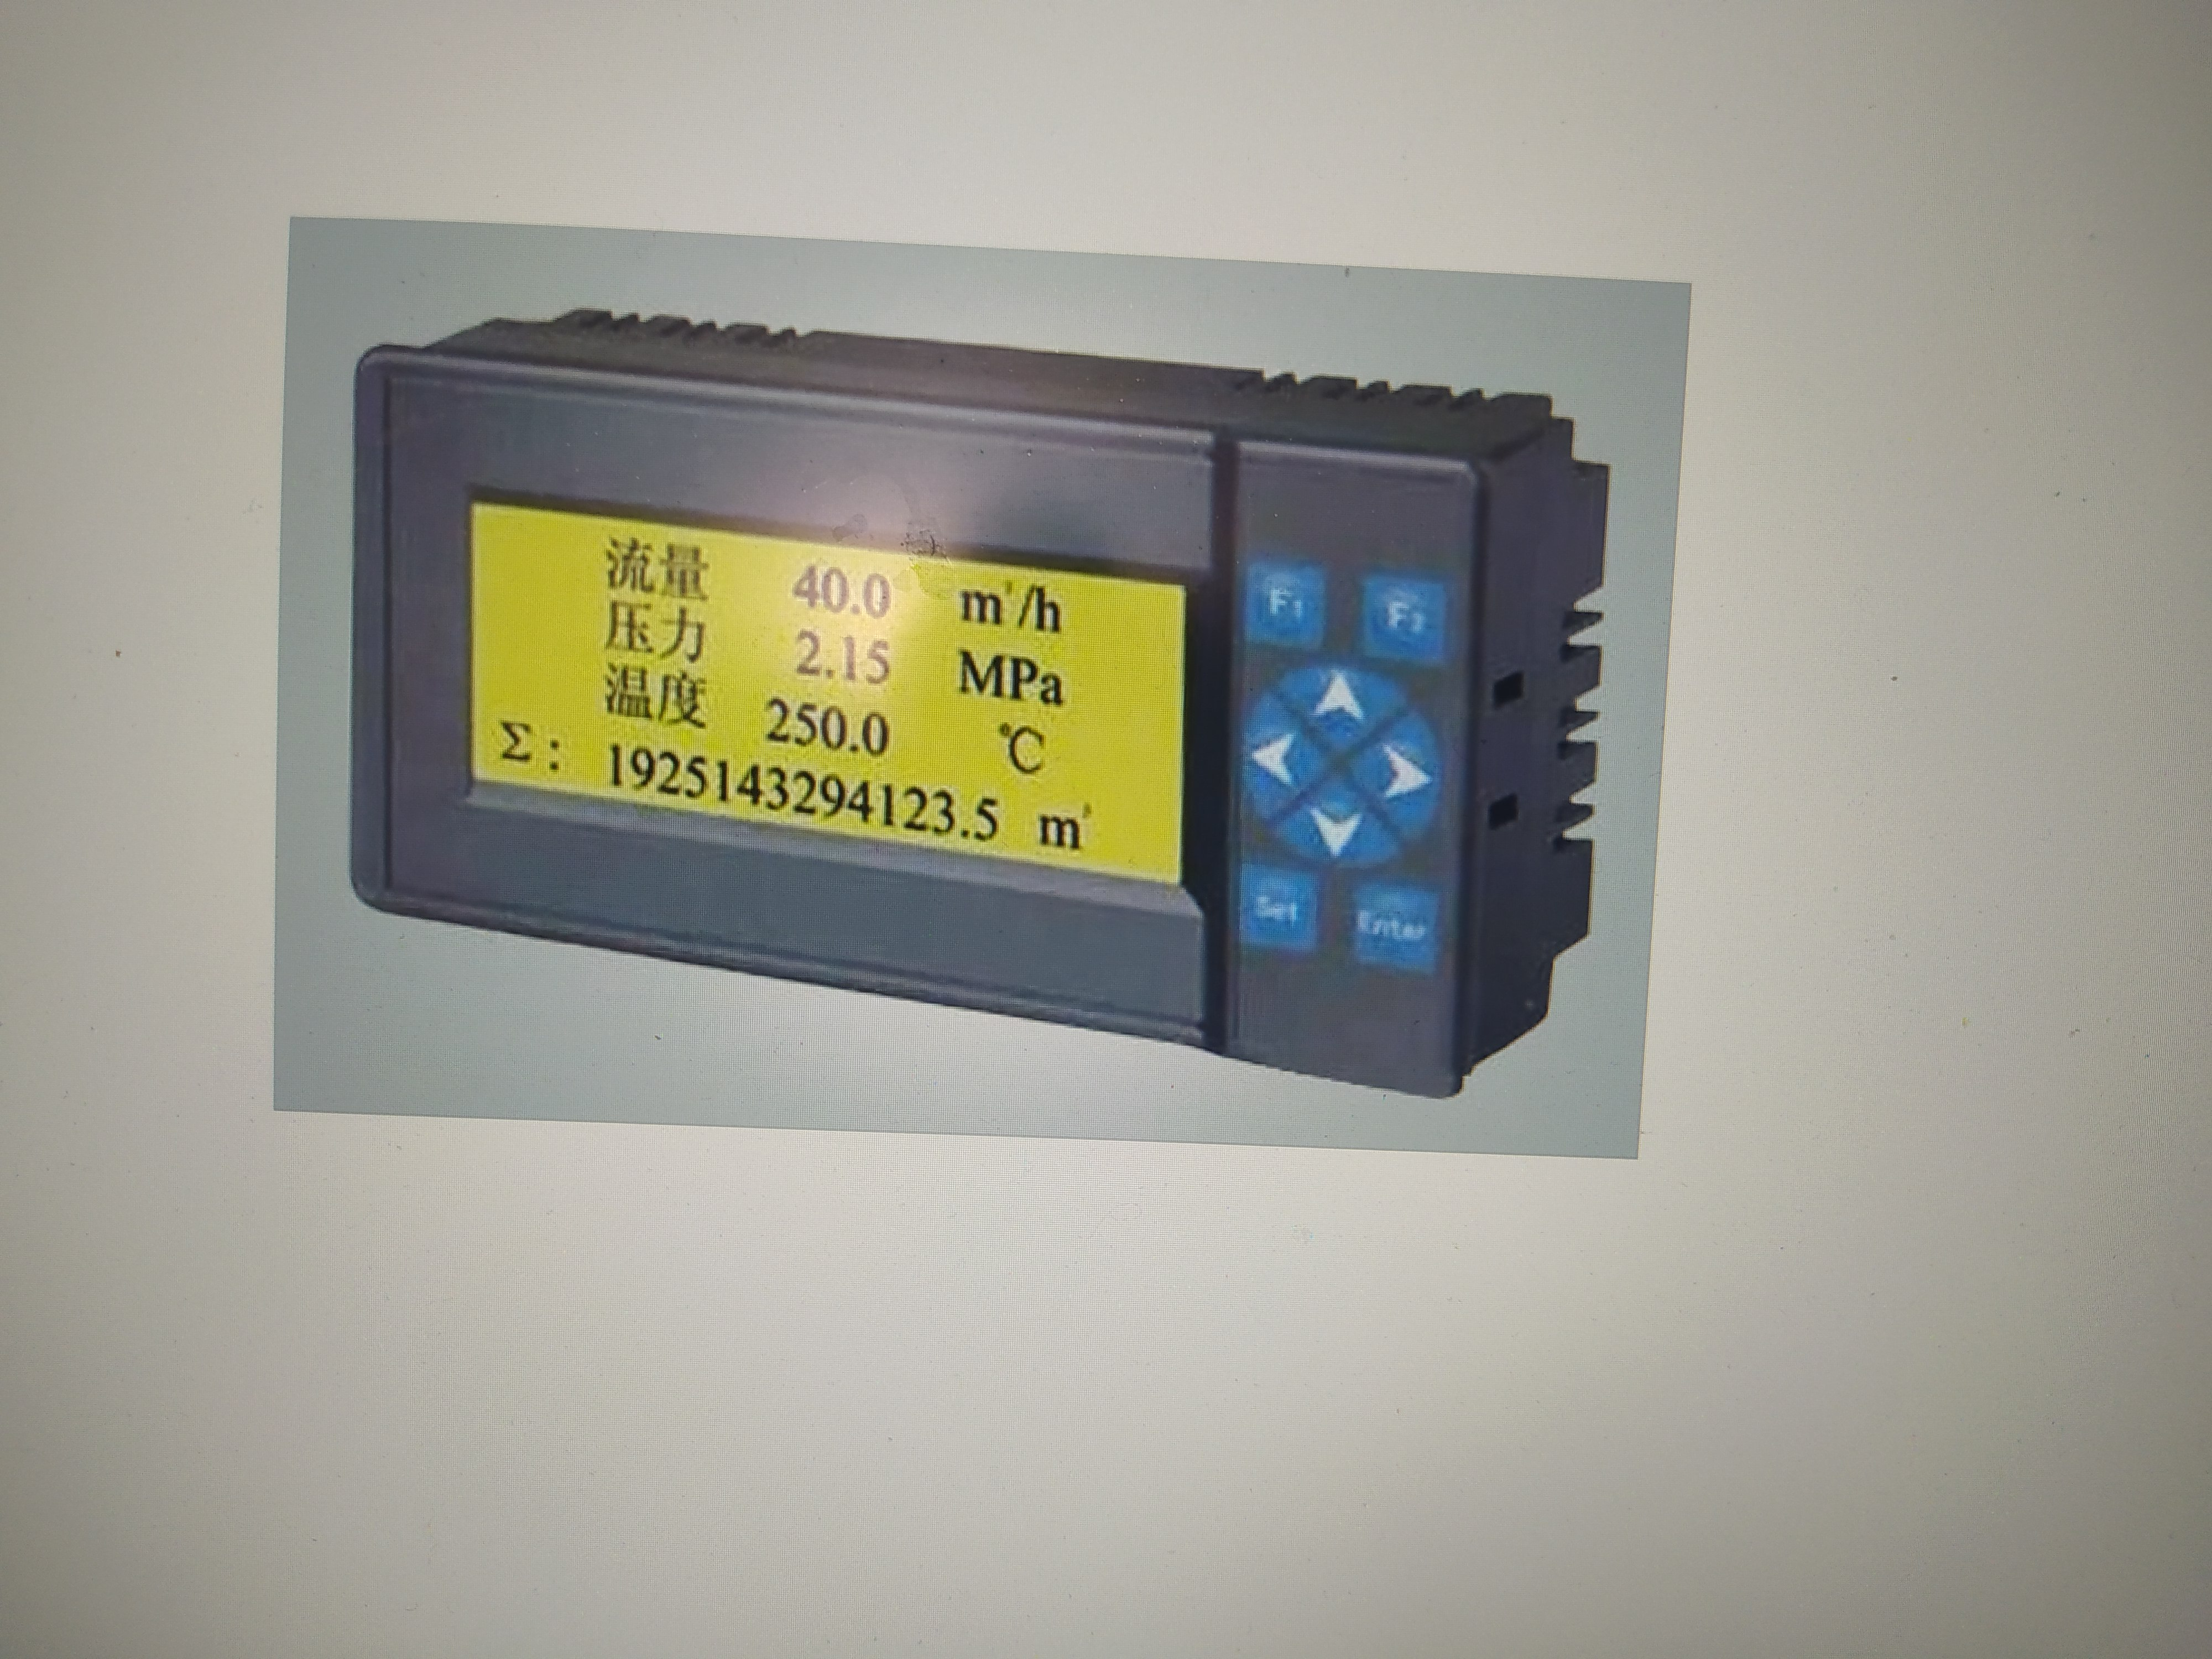.: (954, 786, 974, 842), (848, 568, 864, 619), (846, 704, 862, 755), (824, 633, 834, 681)
0: (859, 704, 894, 763), (820, 561, 850, 617), (862, 568, 894, 620), (819, 701, 848, 755)
1: (707, 749, 735, 807), (596, 739, 625, 793), (836, 633, 866, 683), (876, 777, 899, 835)
2: (787, 765, 820, 819), (899, 782, 932, 835), (759, 695, 792, 746), (655, 744, 685, 800), (794, 627, 822, 680)
3: (927, 784, 958, 840), (761, 758, 791, 816)
4: (789, 561, 822, 613), (846, 777, 880, 828), (735, 756, 766, 807)
5: (972, 789, 1003, 847), (862, 634, 892, 688), (792, 697, 820, 753), (681, 748, 709, 803)
9: (625, 741, 658, 796), (815, 770, 846, 824)
